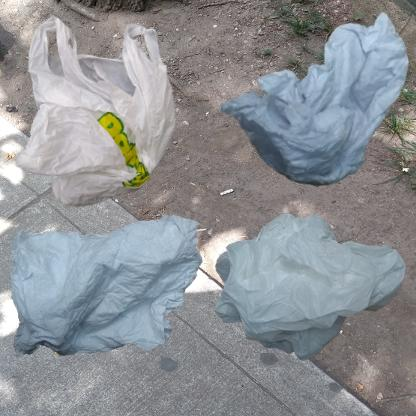bolsa: (10, 10, 192, 226), (213, 213, 406, 361)
papel: (213, 10, 416, 195), (10, 213, 203, 357)
